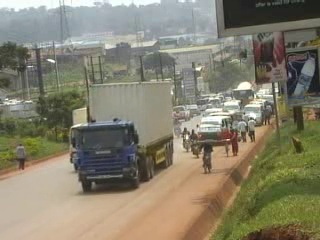Car: (184, 102, 200, 114)
Motorcycle: (188, 131, 202, 159), (179, 126, 192, 152), (172, 114, 183, 138)
